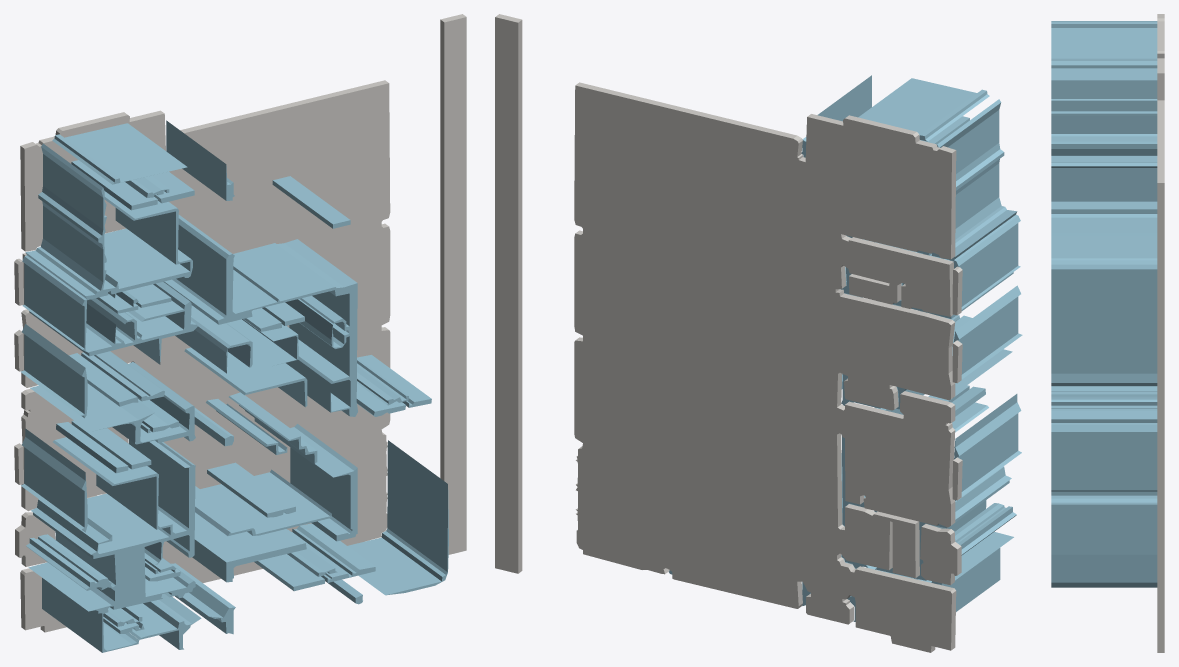
The picture shows the model from 3 angles, left to right: view 1: azimuth 30°, elevation 25°; view 2: azimuth 150°, elevation 25°; view 3: azimuth 270°, elevation 25°; orthographic projection. The views are drawn at different scales.
Parts seen in each view (by area): view 1: world; view 2: world; view 3: world.
Boxes of the visible parts, left/top/right/bottom form: world: left=14, top=14, right=466, bottom=652; world: left=495, top=14, right=1022, bottom=652; world: left=1051, top=14, right=1164, bottom=652.
Bounding box in the file's own units: 9.43 × 10.72 × 2.34.
